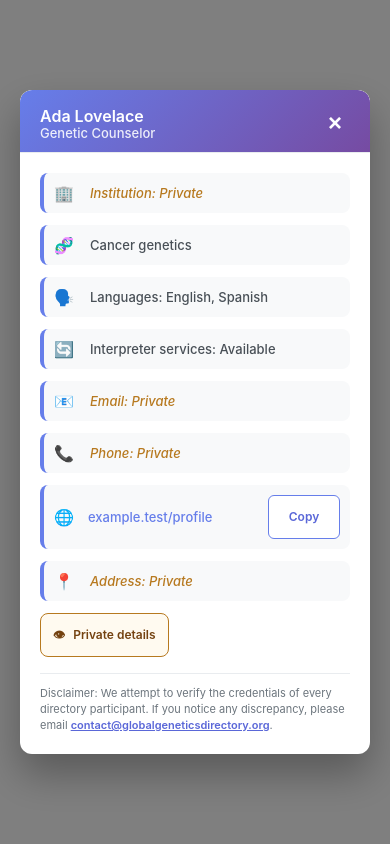
Test case: ContactDetailsModal › reveals one admin guidance panel only after the private-details eye control is activated
Click the button "👁 Private details". click: (104, 635)
box: [40, 613, 169, 657]
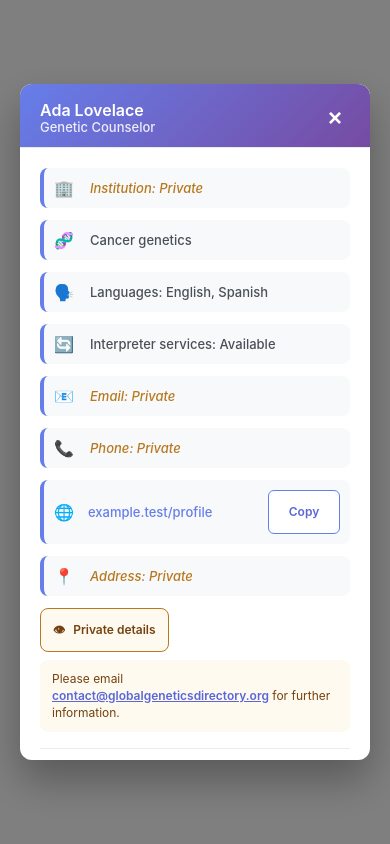
Expected: the link "contact@globalgeneticsdirectory.org" is shown, [52, 688, 269, 703]
Result: the button "👁 Private details" is expanded
Result: the message "Please email contact@globalgeneticsdirectory.org for further information." is shown at [40, 660, 350, 732]
Click the button "👁 Private details". click: (104, 630)
box: [40, 608, 169, 652]
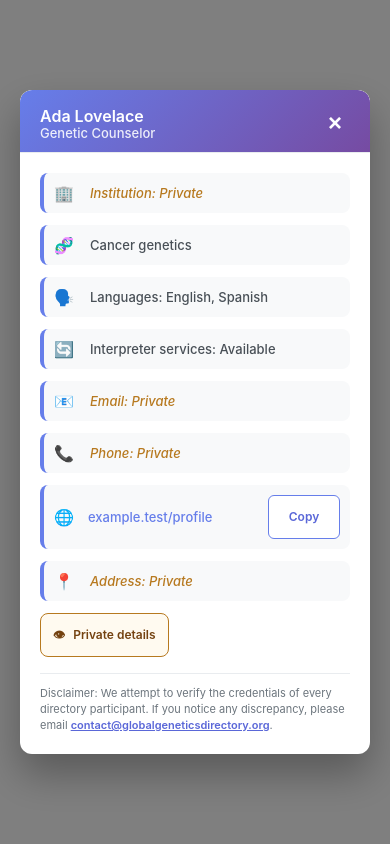
Result: the button "👁 Private details" is collapsed at [40, 613, 169, 657]
